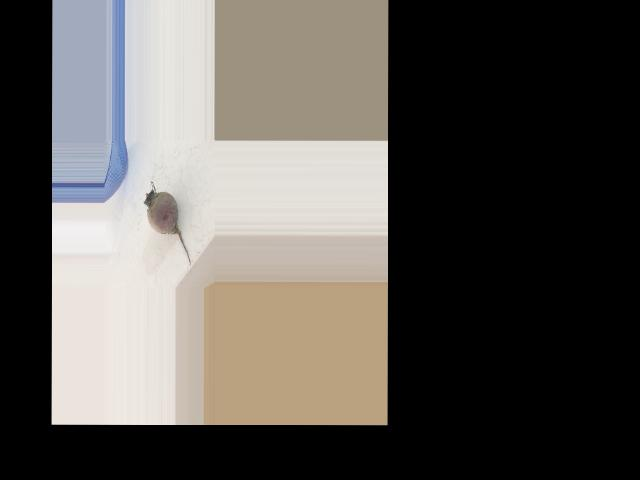beet: (144, 181, 191, 265)
